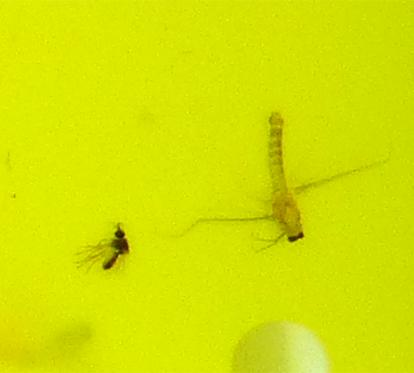Brachycera: (100, 223, 132, 273)
Ephemeroptera: (251, 100, 314, 250)
